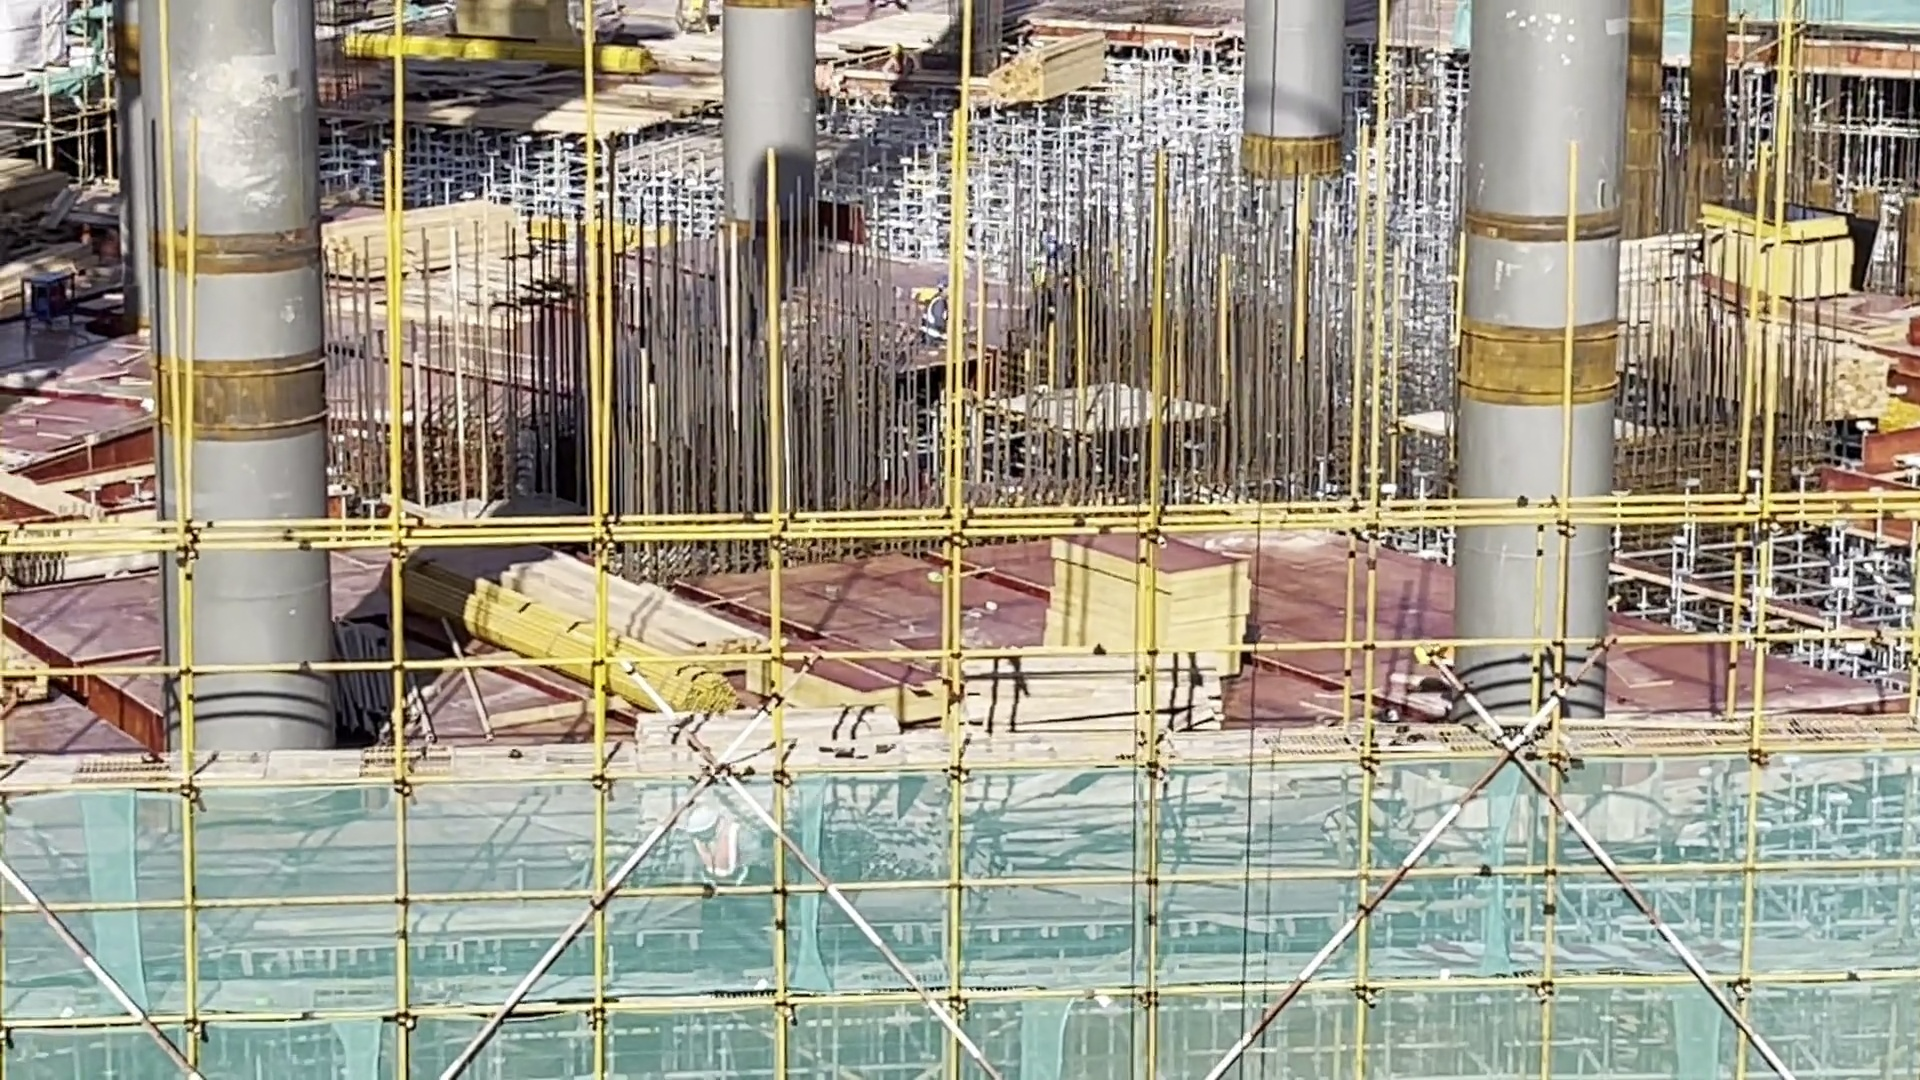board: (1048, 534, 1247, 669)
wood: (469, 556, 782, 723), (971, 657, 1233, 746), (328, 203, 531, 268), (986, 33, 1109, 103), (1809, 342, 1902, 426)
